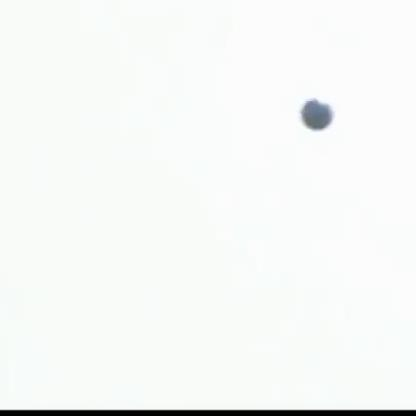golfball: (299, 97, 330, 128)
